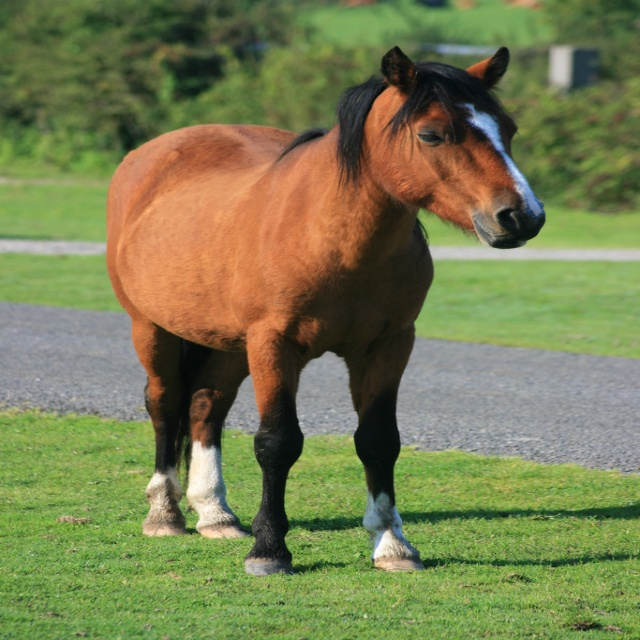Horse: (103, 44, 551, 579)
